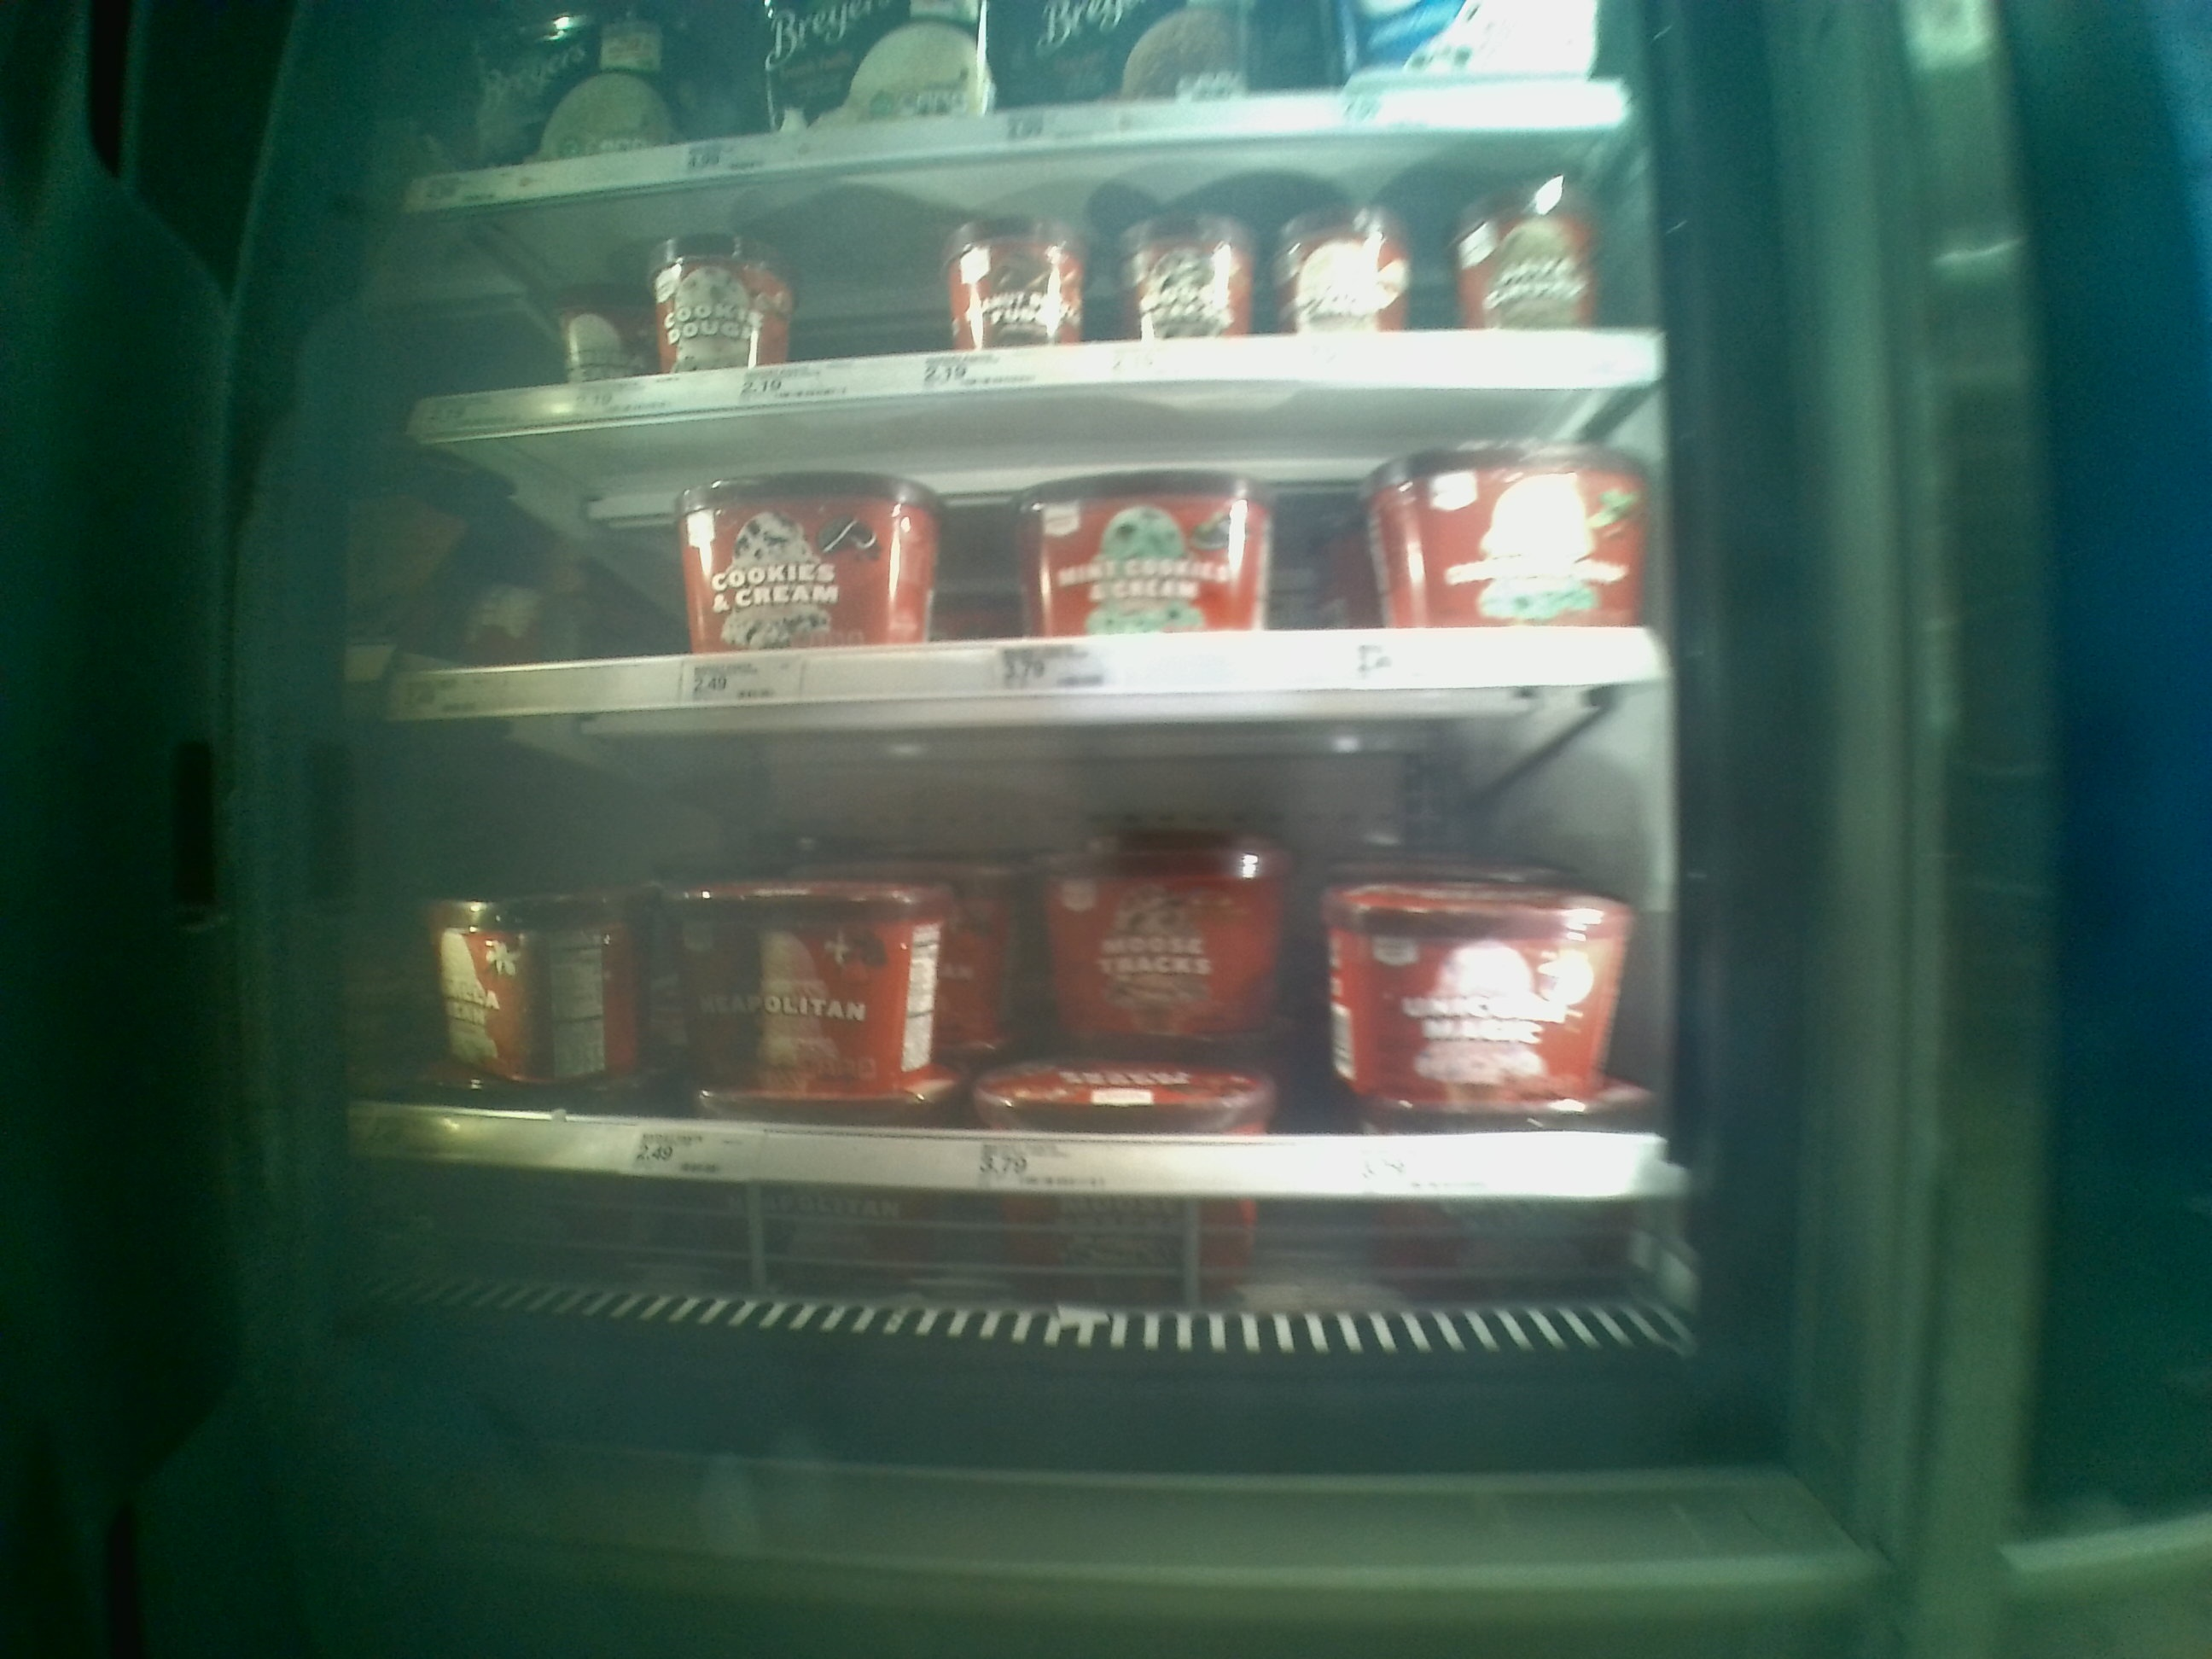shelf: (402, 716, 1660, 1265), (387, 401, 1656, 699)
